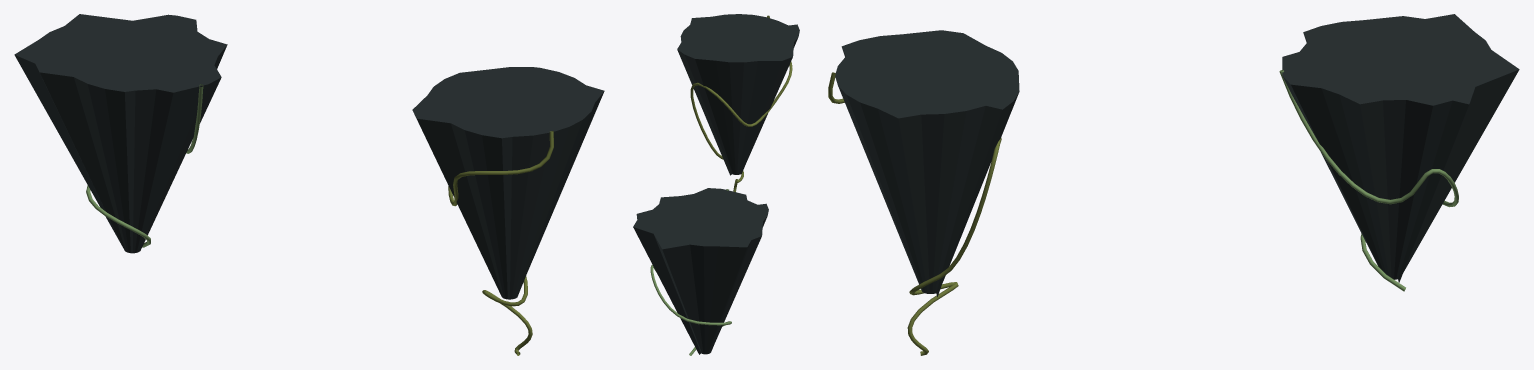
The model's file is skyrocks.fbx.
3 renders of one model, left to right at view 1: azimuth 30°, elevation 25°; view 2: azimuth 150°, elevation 25°; view 3: azimuth 270°, elevation 25°, orthographic. The views are drawn at different scales.
Parts seen in each view (by area): view 1: Cone.001, Cone, BézierCurve, BézierCurve.001; view 2: Cone.001, Cone, BézierCurve, BézierCurve.001; view 3: Cone.001, Cone, BézierCurve, BézierCurve.001.
Part boxes in pixels (x1,y1,x2,y2): Cone.001: [14, 14, 227, 253]; Cone: [412, 67, 604, 299]; BézierCurve: [448, 131, 553, 355]; BézierCurve.001: [86, 84, 203, 247]; Cone.001: [633, 188, 768, 354]; Cone: [677, 14, 799, 175]; BézierCurve: [690, 15, 792, 191]; BézierCurve.001: [650, 189, 731, 355]; Cone.001: [1282, 14, 1519, 282]; Cone: [835, 30, 1019, 296]; BézierCurve: [828, 72, 1001, 355]; BézierCurve.001: [1279, 69, 1458, 291].
Bounding box in the file's own units: 377 × 293 × 615.
